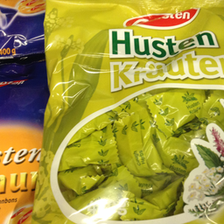candy: (43, 1, 223, 224)
